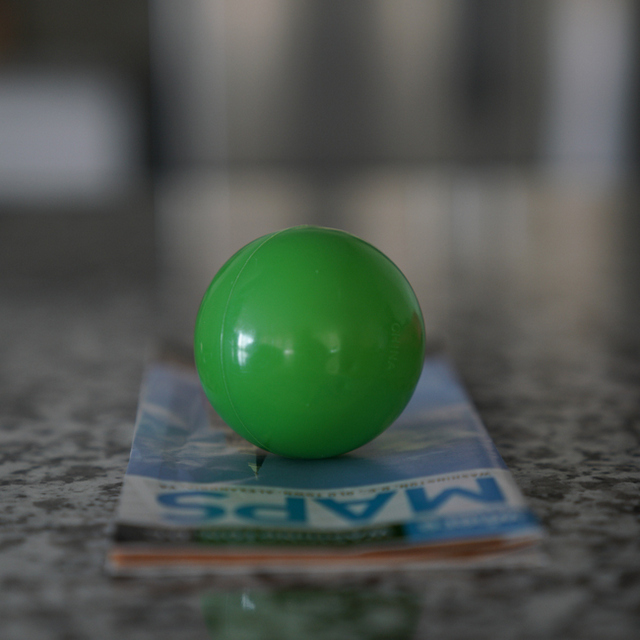Ball: (197, 228, 424, 463)
